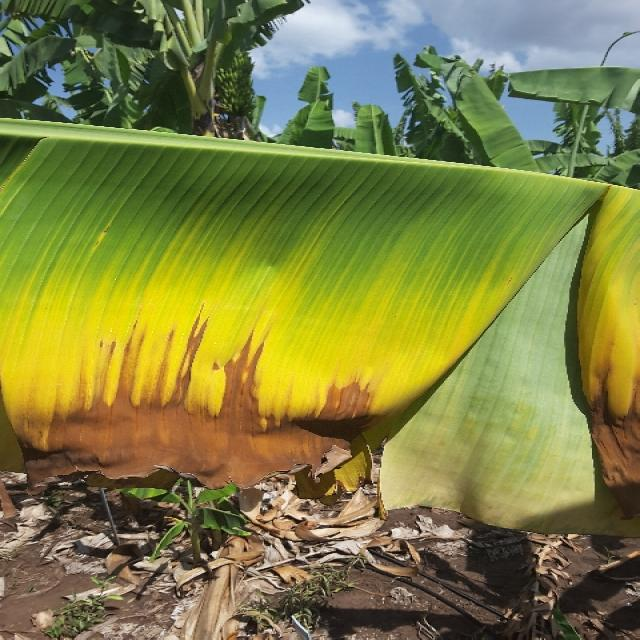Cordana: (0, 173, 640, 556)
